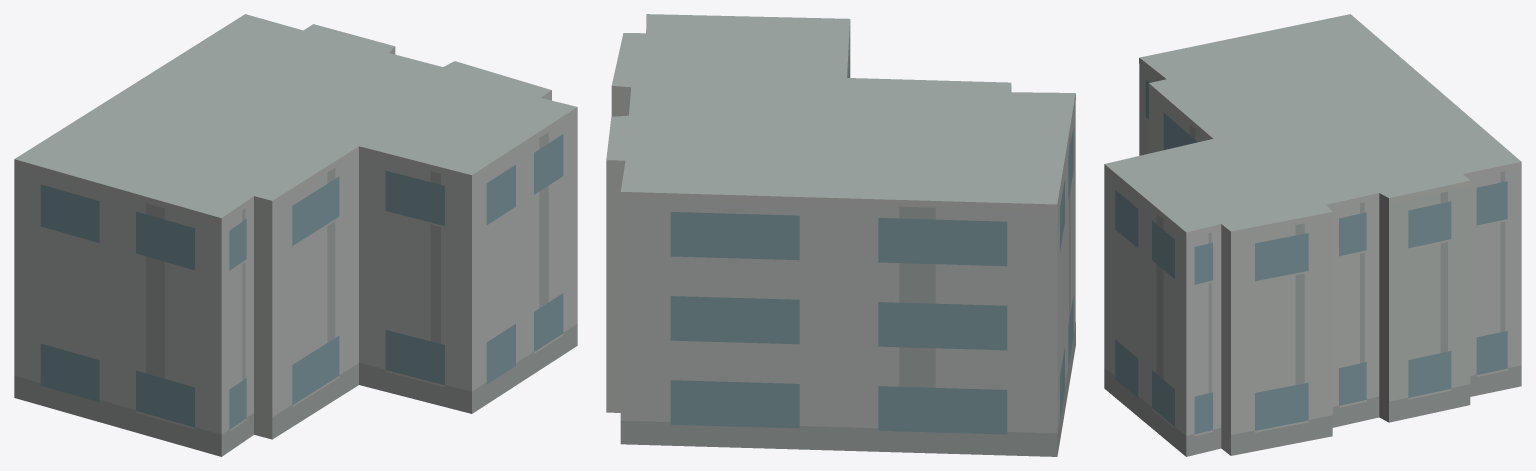
Rendered from survey-upis-32905734.glb.
3 views of the same model, side by side, from view 1: azimuth 30°, elevation 25°; view 2: azimuth 150°, elevation 25°; view 3: azimuth 270°, elevation 25° (orthographic). The views are drawn at different scales.
Parts seen in each view (by area): view 1: survey-upis-32905734.tmp; view 2: survey-upis-32905734.tmp; view 3: survey-upis-32905734.tmp.
Part boxes in pixels (left/top/right/bottom): survey-upis-32905734.tmp: left=14, top=14, right=577, bottom=456; survey-upis-32905734.tmp: left=606, top=14, right=1075, bottom=456; survey-upis-32905734.tmp: left=1104, top=14, right=1521, bottom=456.
Size of the model in its own units: 19.11 by 9.15 by 15.43.
